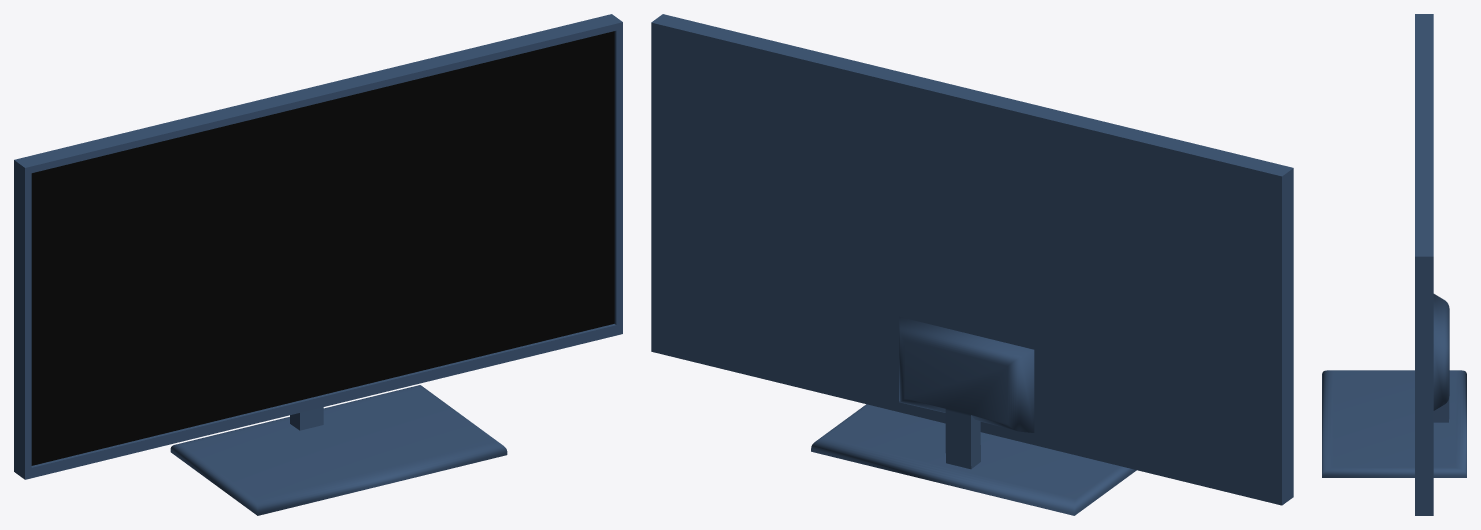
The model's file is NewTV.FBX.
3 views of the same model, side by side, from view 1: azimuth 30°, elevation 25°; view 2: azimuth 150°, elevation 25°; view 3: azimuth 270°, elevation 25° (orthographic). The views are drawn at different scales.
Visible parts, largest first — view 1: NewTV; view 2: NewTV; view 3: NewTV.
Part boxes in pixels (x1,y1,x2,y2): NewTV: [14, 14, 622, 515]; NewTV: [651, 14, 1293, 515]; NewTV: [1322, 14, 1466, 515].
Size of the model in its own units: 200 by 112 by 50.37.
